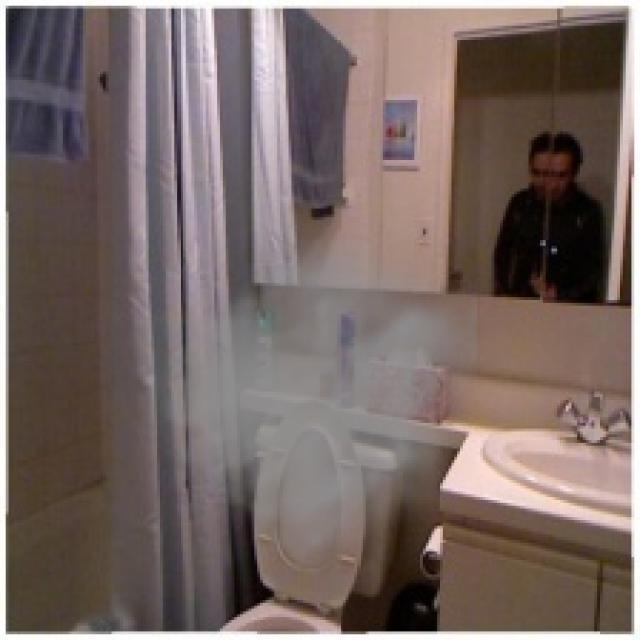Smoke: (122, 220, 478, 577)
